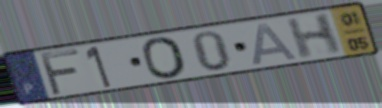0: (189, 29, 234, 72)
1: (84, 44, 114, 89)
A: (250, 21, 301, 67)
F: (37, 47, 83, 98)
H: (284, 11, 344, 61)
O: (139, 35, 190, 80)
